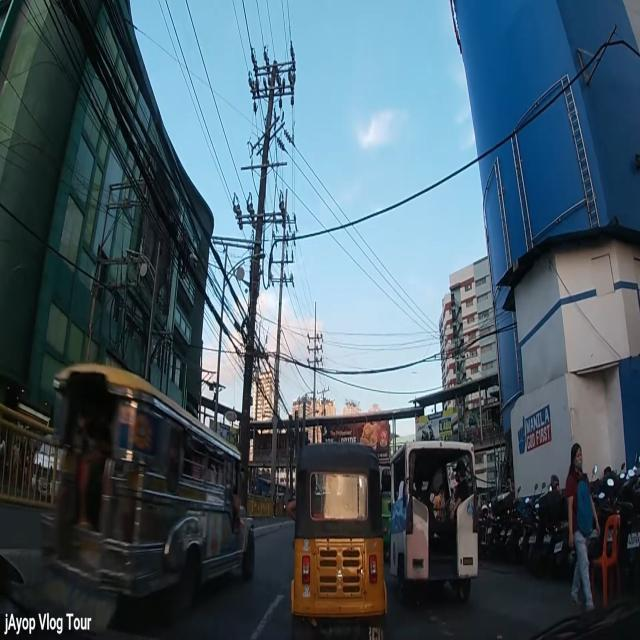jeepney: (31, 364, 256, 627)
motorcycle: (606, 470, 630, 580), (627, 454, 640, 586)
tricycle: (288, 439, 389, 636), (387, 438, 475, 604)
